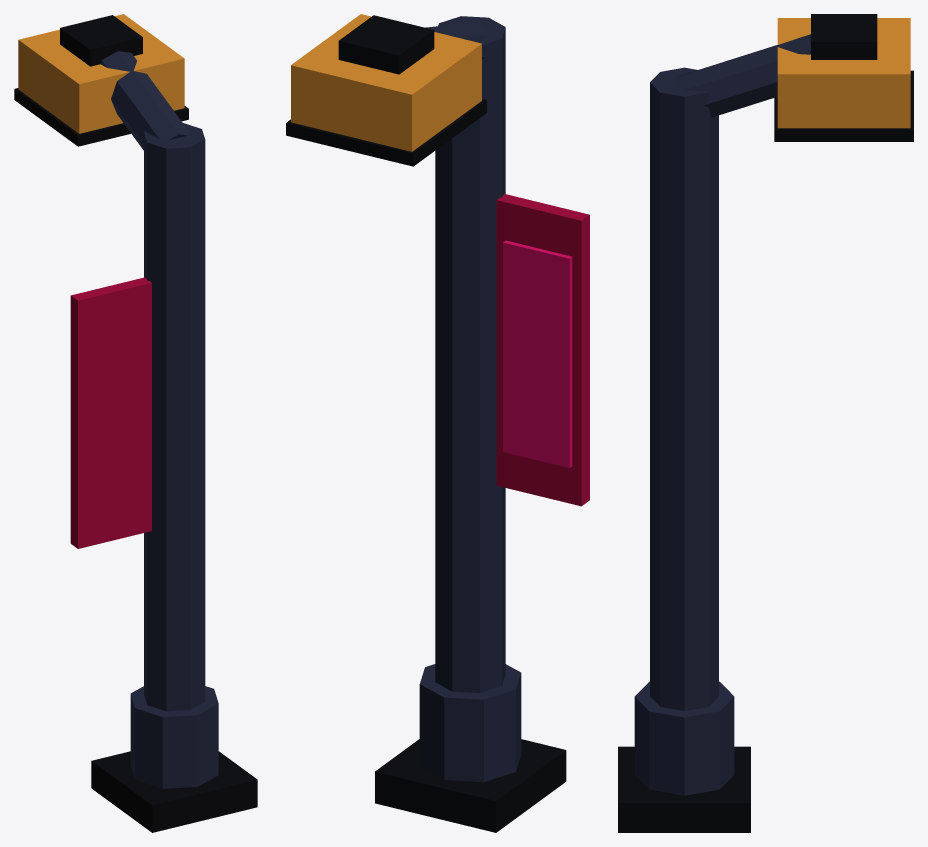
File: NeonCityV5_Run_Lamp_Pole.fbx
3 renders of one model, left to right at view 1: azimuth 30°, elevation 25°; view 2: azimuth 150°, elevation 25°; view 3: azimuth 270°, elevation 25°, orthographic. The views are drawn at different scales.
Parts seen in each view (by area): view 1: NeonCityV5_Run_Lamp_Pole; view 2: NeonCityV5_Run_Lamp_Pole; view 3: NeonCityV5_Run_Lamp_Pole.
Boxes of the visible parts, bbox=[...] form: NeonCityV5_Run_Lamp_Pole: bbox=[14, 14, 257, 832]; NeonCityV5_Run_Lamp_Pole: bbox=[286, 14, 589, 832]; NeonCityV5_Run_Lamp_Pole: bbox=[618, 14, 913, 832].
Size of the model in its own units: 0.295 by 1.29 by 0.445.
